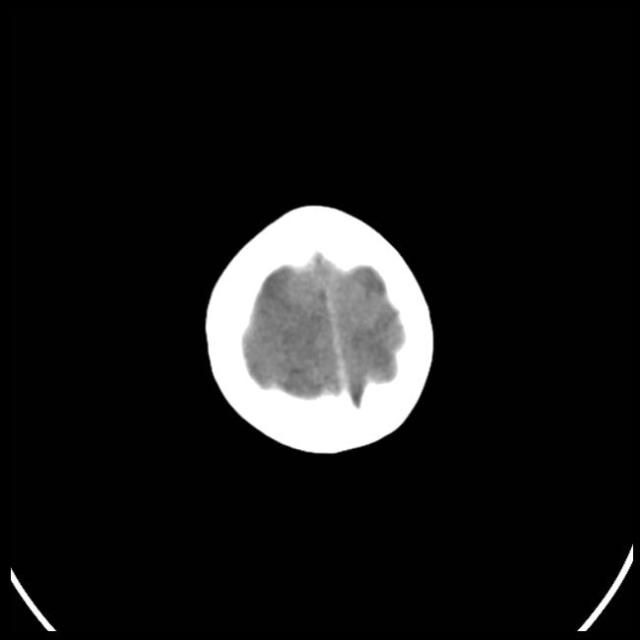lesion: (245, 268, 314, 404)
